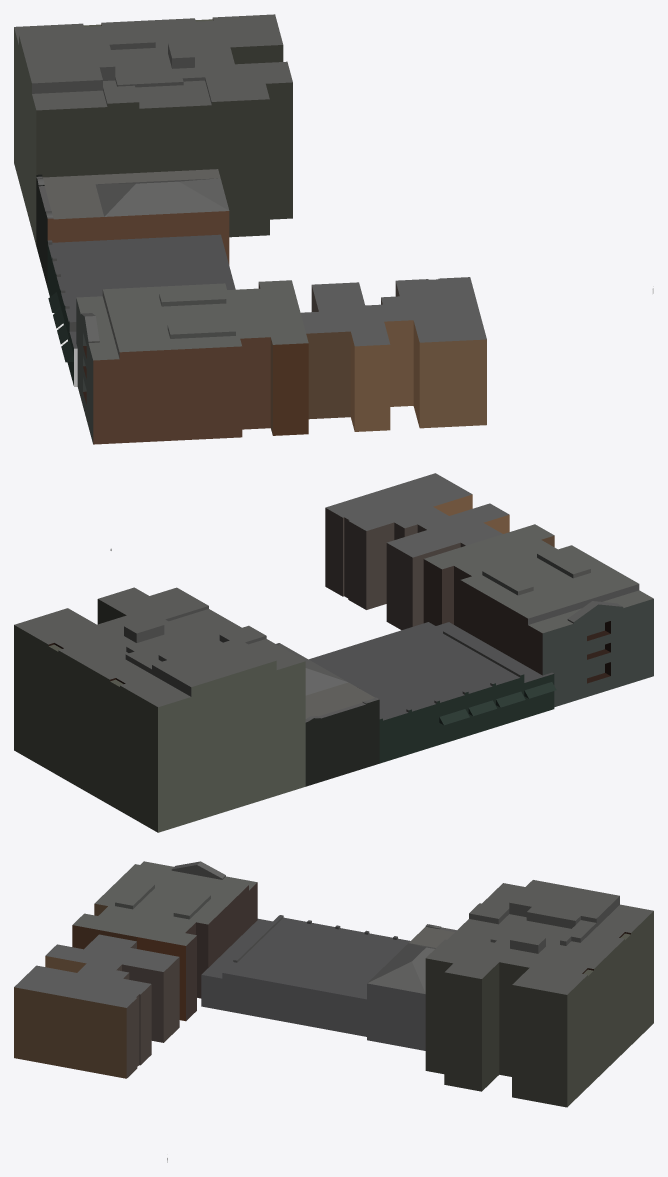
File: 600-georgia-avenue.glb
3 views of the same model, one above another, from view 1: azimuth 30°, elevation 25°; view 2: azimuth 150°, elevation 25°; view 3: azimuth 270°, elevation 25° (orthographic). The views are drawn at different scales.
Visible parts, largest first — view 1: LOD0; view 2: LOD0; view 3: LOD0.
Part boxes in pixels (x1,y1,x2,y2): LOD0: [14, 14, 653, 444]; LOD0: [14, 473, 653, 832]; LOD0: [14, 861, 653, 1162].
Size of what is drawn, in the model's own units: 96.57 by 23.51 by 112.
Materials: 2 (2 with a texture image).
